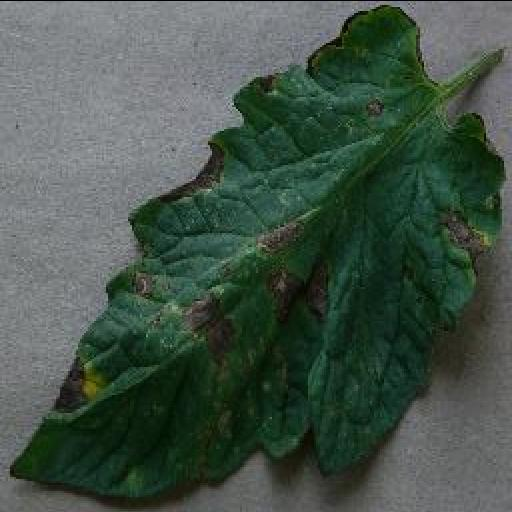disease_tomato: (10, 6, 504, 504)
